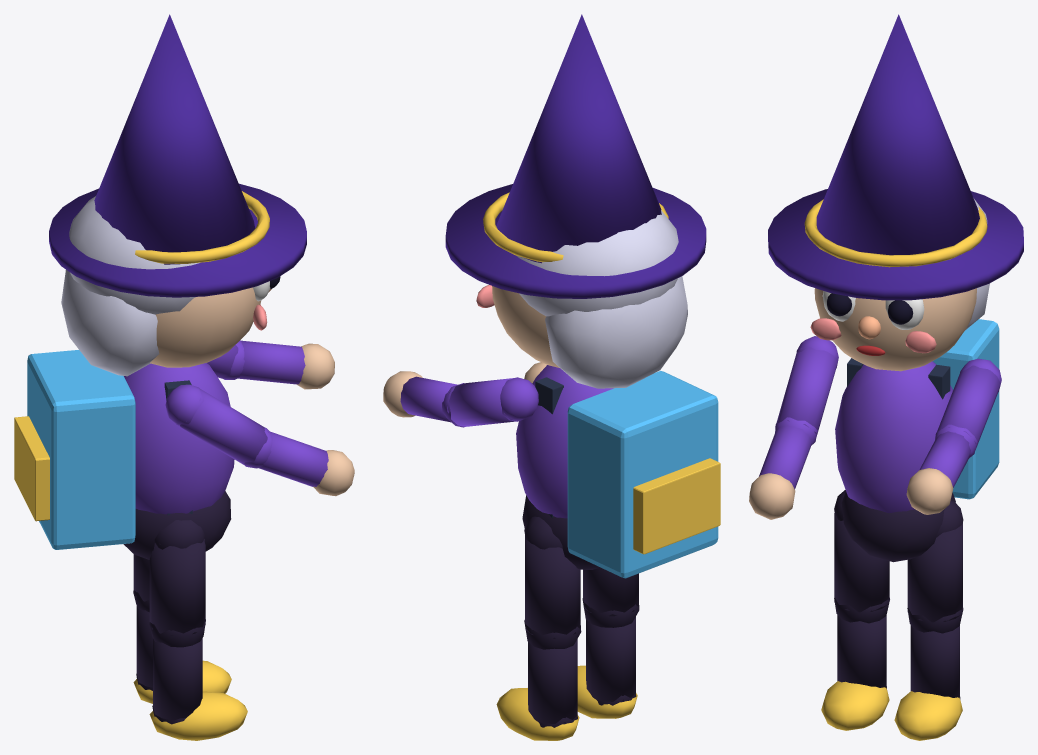
The model's file is hrdina_4_radost.glb.
3 renders of one model, left to right at view 1: azimuth 30°, elevation 25°; view 2: azimuth 150°, elevation 25°; view 3: azimuth 270°, elevation 25°, orthographic.
Visible parts, largest first — view 1: Cone, Cube, Cylinder, Sphere, Sphere.012, Sphere.002, Cylinder.005, Sphere.011, Cylinder.006, Cylinder.001, Cube.001, Sphere.026 (+12 smaller); view 2: Cube, Cone, Cylinder, Sphere.012, Sphere.011, Cube.001, Sphere, Cylinder.007, Cylinder.008, Cylinder.006, Sphere.002, Cylinder.003 (+12 smaller); view 3: Cone, Sphere, Cylinder, Sphere.002, Cube, Sphere.001, Cylinder.007, Cylinder.005, Cylinder.006, Cylinder.008, Cylinder.001, Torus (+17 smaller).
Boxes of the visible parts, x1,y1,x2,y2 form: Cone: (94, 14, 255, 264); Cube: (27, 350, 135, 549); Cylinder: (49, 183, 306, 297); Sphere: (124, 363, 234, 514); Sphere.012: (61, 270, 159, 376); Sphere.002: (150, 287, 261, 367); Cylinder.005: (149, 539, 205, 635); Sphere.011: (69, 196, 199, 314); Cylinder.006: (153, 638, 202, 720); Cylinder.001: (176, 389, 268, 465); Cube.001: (14, 416, 49, 521); Sphere.026: (149, 691, 247, 740); Cube: (567, 371, 718, 578); Cone: (496, 14, 661, 263); Cylinder: (445, 184, 706, 298); Sphere.012: (545, 276, 687, 388); Sphere.011: (516, 210, 678, 316); Cube.001: (633, 458, 720, 554); Sphere: (516, 365, 613, 518); Cylinder.007: (525, 536, 580, 638); Cylinder.008: (528, 639, 577, 723); Cylinder.006: (586, 617, 635, 701); Sphere.002: (492, 286, 559, 367); Cylinder.003: (447, 378, 520, 426); Cone: (816, 14, 979, 255); Sphere: (835, 361, 953, 513); Cylinder: (768, 189, 1023, 300); Sphere.002: (814, 288, 976, 371); Cube: (933, 319, 999, 499); Sphere.001: (841, 491, 955, 562); Cylinder.007: (907, 523, 962, 622); Cylinder.005: (834, 513, 889, 612); Cylinder.006: (837, 615, 886, 687); Cylinder.008: (910, 625, 959, 697); Cylinder.001: (776, 347, 837, 435); Torus: (804, 199, 987, 267).
Size of the model in its own units: 0.7746 by 1.67 by 0.5909.
